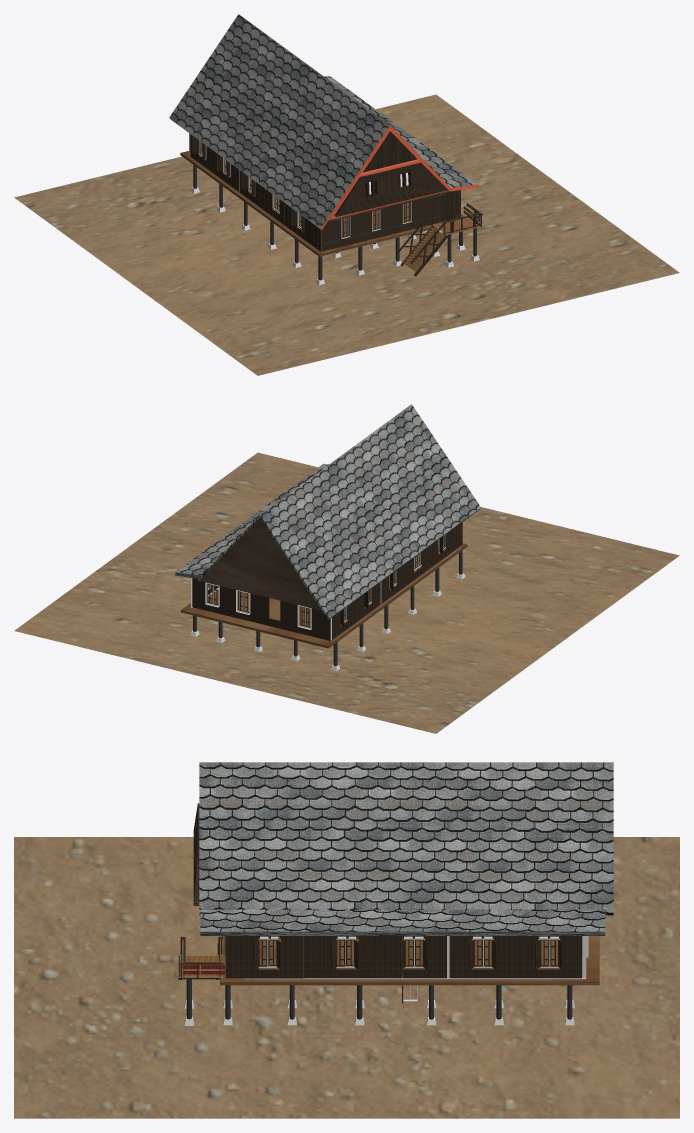
File: bugis_house.glb
The picture shows the model from 3 angles, top to bottom: view 1: azimuth 30°, elevation 25°; view 2: azimuth 150°, elevation 25°; view 3: azimuth 270°, elevation 25°; orthographic projection. The views are drawn at different scales.
Visible parts, largest first — view 1: Plane, head 2, G-Object.095, Cube.001, head 2.002, G-Object.223, head; view 2: Plane, head 2, themain, Cube.001, head 2.002; view 3: Plane, head 2, head 2.002, Cube.001, Cube.002, G-Object.095.
Part boxes in pixels (x1,y1,x2,y2): Plane: [14, 94, 679, 375]; head 2: [169, 14, 389, 229]; G-Object.095: [334, 162, 448, 216]; Cube.001: [180, 151, 463, 256]; head 2.002: [324, 75, 477, 187]; G-Object.223: [363, 131, 416, 172]; head: [329, 127, 450, 220]; Plane: [14, 452, 679, 733]; head 2: [198, 404, 480, 619]; themain: [199, 518, 321, 610]; Cube.001: [180, 541, 467, 648]; head 2.002: [175, 463, 328, 578]; Plane: [14, 837, 679, 1118]; head 2: [199, 762, 613, 915]; head 2.002: [200, 909, 605, 935]; Cube.001: [220, 936, 599, 985]; Cube.002: [245, 977, 585, 979]; G-Object.095: [193, 803, 199, 906].
Size of the model in its own units: 47.66 by 16.43 by 47.66.
103 materials, 49 textured.
